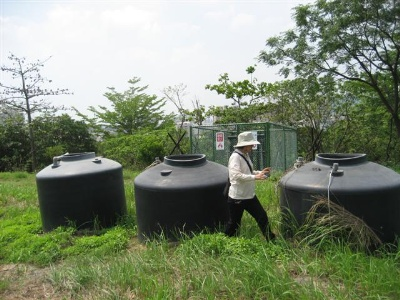bucket: (276, 152, 399, 243), (133, 153, 229, 241), (36, 152, 126, 235)
